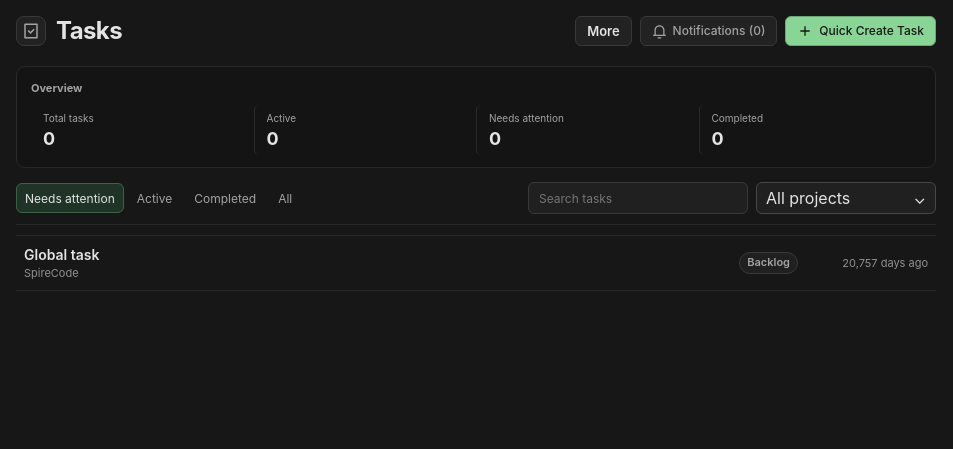
Test case: loads the global list and opens a task detail without an active project
Click the button "Global task SpireCode Backlog 20,757 days ago" at point(62, 254), box top-left (16, 236), bottom-right (936, 290)
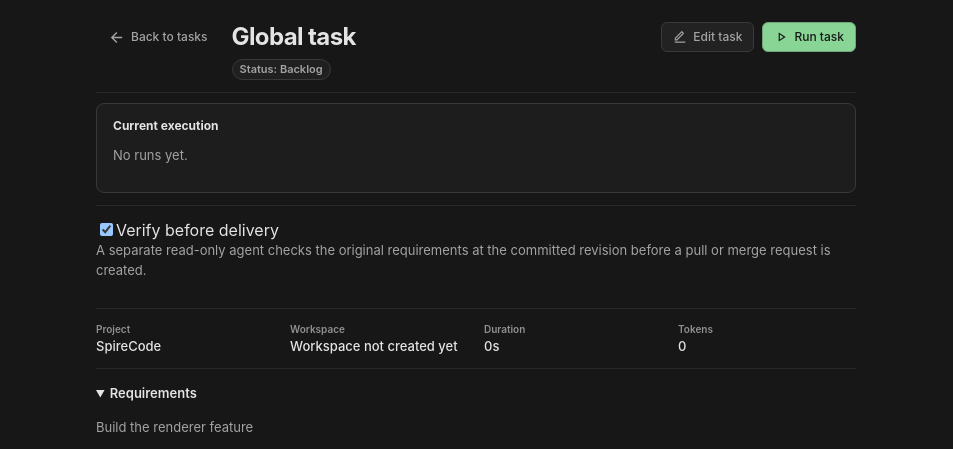
Expected: the heading "Global task" is shown, top-left (232, 22), bottom-right (356, 51)
Result: the button "Run task" is shown at top-left (762, 22), bottom-right (856, 52)
